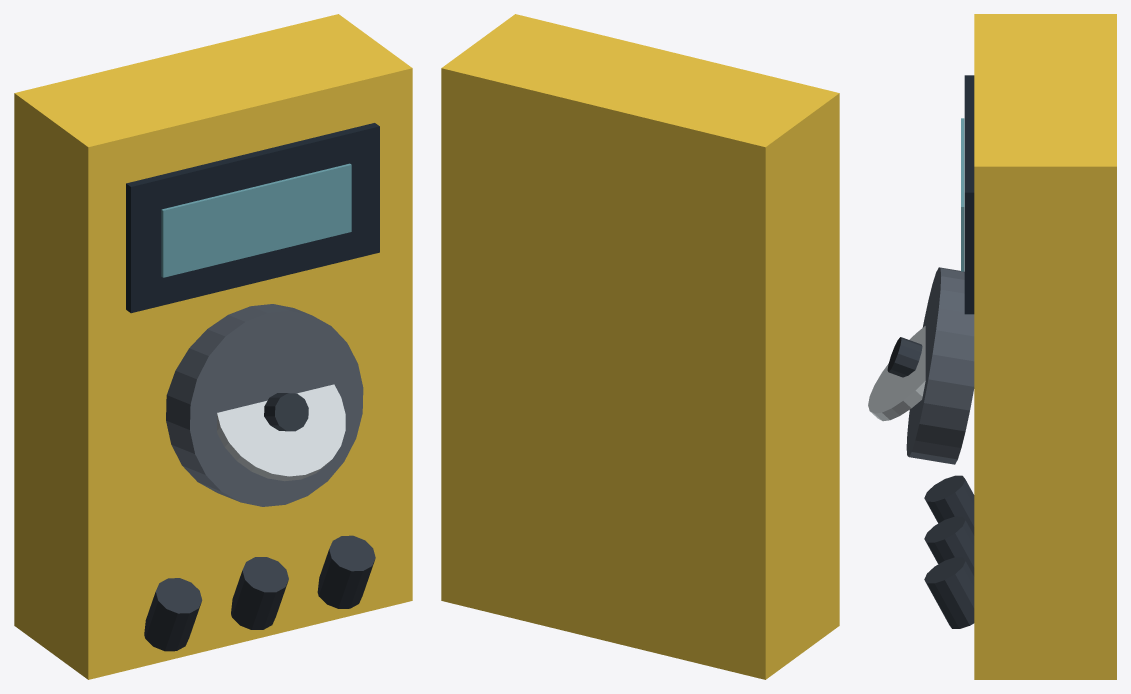
The model's file is product-20.glb.
3 renders of one model, left to right at view 1: azimuth 30°, elevation 25°; view 2: azimuth 150°, elevation 25°; view 3: azimuth 270°, elevation 25°, orthographic. The views are drawn at different scales.
Visible parts, largest first — view 1: product-20; view 2: product-20; view 3: product-20.
Boxes of the visible parts, box(x1,y1,x2,y2) form: product-20: box(14, 14, 412, 679); product-20: box(441, 14, 839, 679); product-20: box(868, 14, 1116, 679).
Bounding box in the file's own units: 0.86 × 1.35 × 0.5931.
